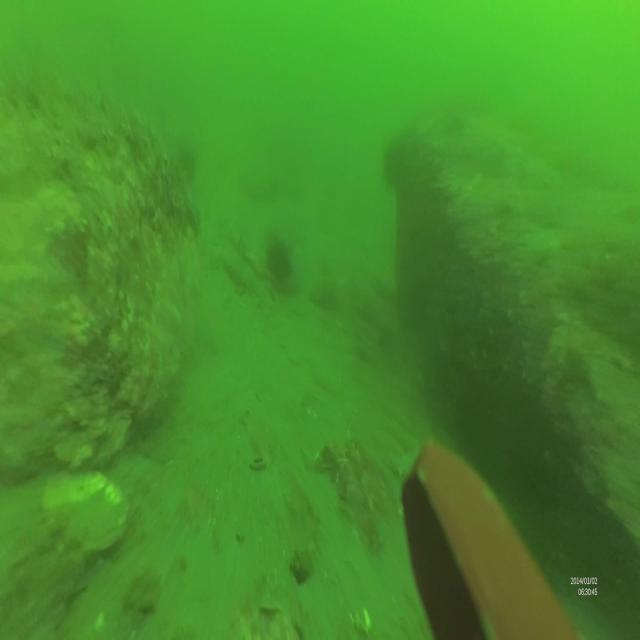echinus: (266, 237, 294, 280)
scallop: (45, 465, 130, 559)
